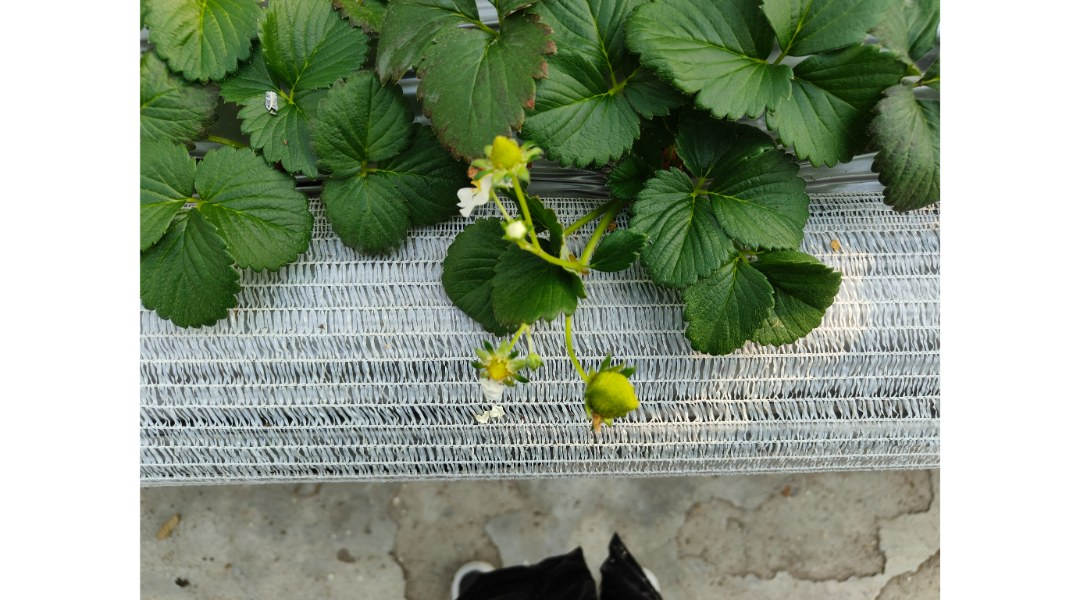berry: (580, 349, 645, 424), (471, 132, 549, 184), (468, 339, 529, 391)
flower: (450, 170, 497, 220)
strain: (563, 237, 613, 363)
